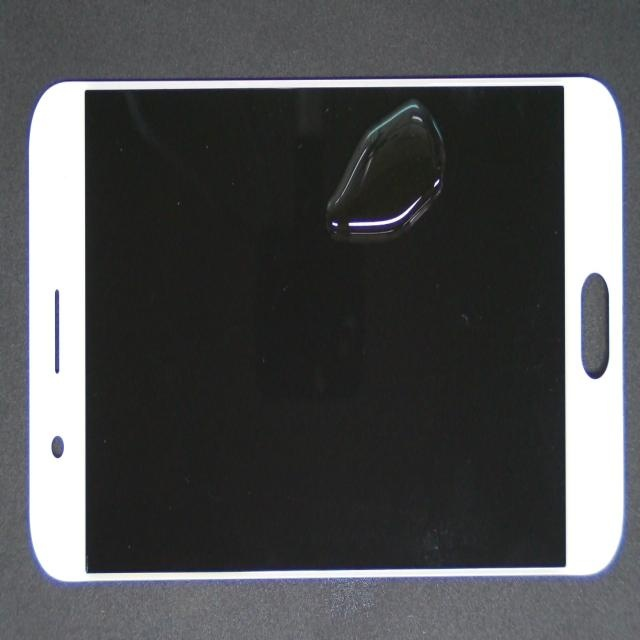oil: (228, 102, 640, 210)
